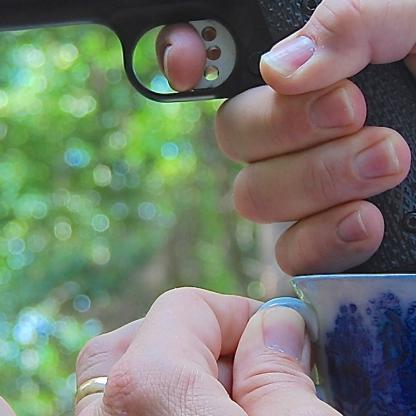gun: (0, 0, 415, 274)
